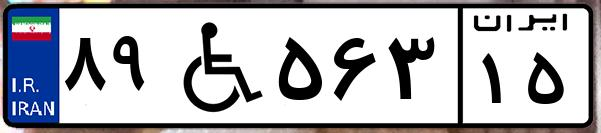1: (475, 38, 525, 113)
3: (385, 28, 445, 110)
5: (270, 28, 330, 110), (525, 38, 570, 115)
6: (330, 28, 385, 110)
8: (57, 26, 110, 100)
9: (110, 28, 158, 98)
ژ (معلولین و جانبازان): (158, 12, 270, 120)
